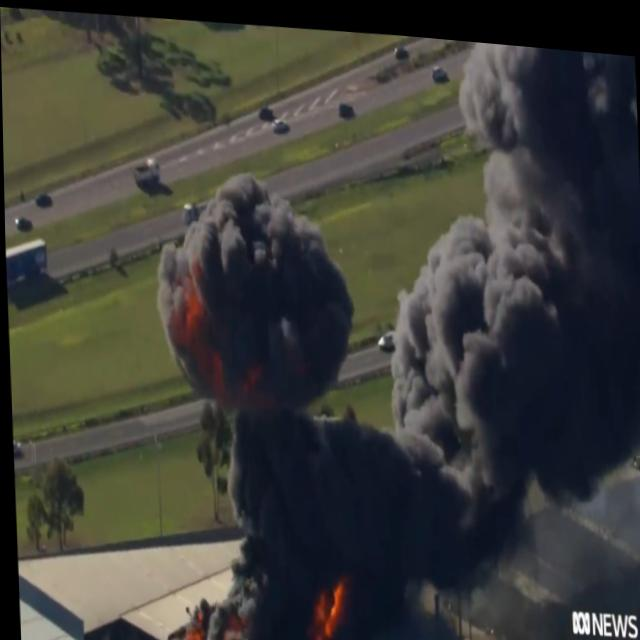Fire: (308, 573, 346, 640)
